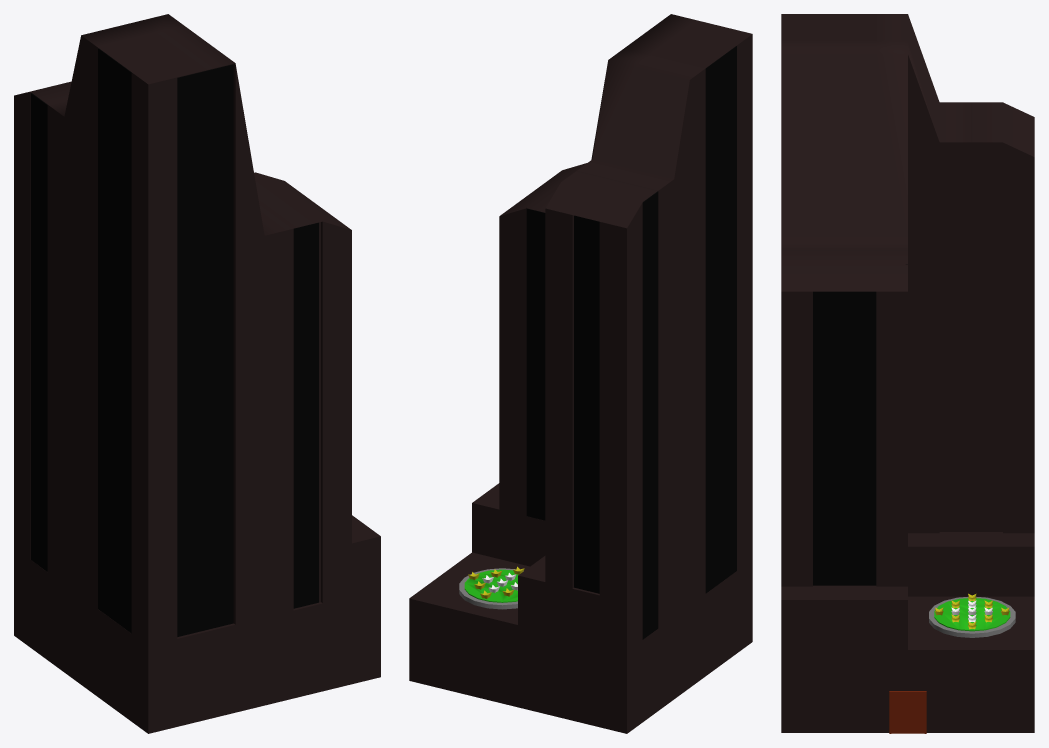
File: 高樓房1.fbx
The picture shows the model from 3 angles, left to right: view 1: azimuth 30°, elevation 25°; view 2: azimuth 150°, elevation 25°; view 3: azimuth 270°, elevation 25°; orthographic projection. The views are drawn at different scales.
Parts seen in each view (by area): view 1: 高房屋1, 高樓房玻璃005, 高樓房玻璃004, 高樓房玻璃006, 高樓房玻璃003; view 2: 高房屋1, 高樓房玻璃004, 高樓房玻璃002, 高樓房玻璃003, 高樓房玻璃007, 花坛; view 3: 高房屋1, 高樓房玻璃, 花坛, 高房屋1門.
Part boxes in pixels (x1,y1,x2,y2): 高房屋1: [14, 14, 380, 733]; 高樓房玻璃005: [177, 64, 233, 636]; 高樓房玻璃004: [98, 48, 131, 633]; 高樓房玻璃006: [293, 222, 318, 608]; 高樓房玻璃003: [31, 93, 47, 571]; 高房屋1: [409, 14, 752, 733]; 高樓房玻璃004: [705, 46, 736, 593]; 高樓房玻璃002: [574, 215, 599, 593]; 高樓房玻璃003: [642, 191, 658, 639]; 高樓房玻璃007: [526, 208, 545, 520]; 花坛: [459, 566, 524, 609]; 高房屋1: [781, 14, 1034, 732]; 高樓房玻璃: [813, 291, 876, 585]; 花坛: [929, 593, 1015, 637]; 高房屋1門: [889, 691, 926, 733].
Size of the model in its own units: 232 by 614 by 230.
